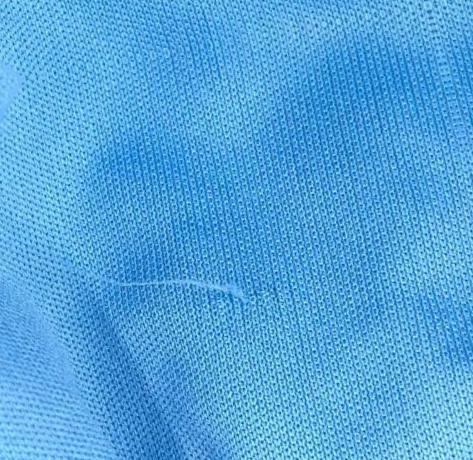stain: (89, 262, 289, 322)
